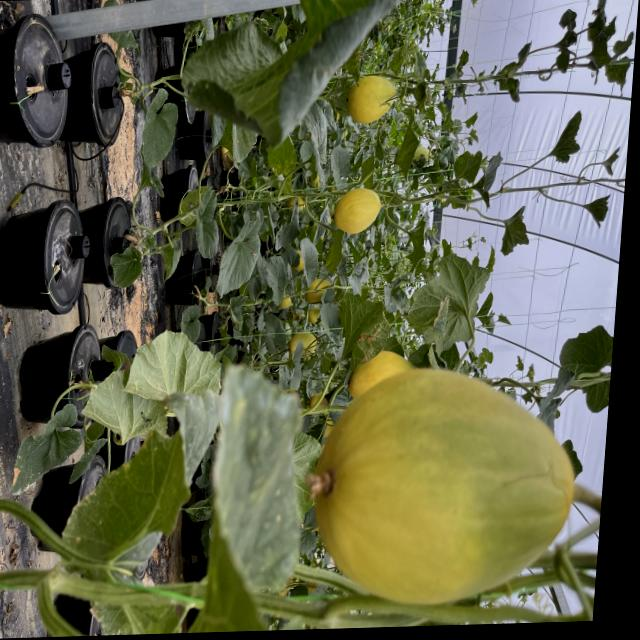CMV: (494, 208, 534, 263)
alternaria leaf blight: (330, 277, 395, 370)
downy mildew: (49, 430, 214, 637), (73, 319, 226, 447), (262, 135, 300, 194), (390, 110, 421, 179)
healthy: (404, 249, 495, 365), (10, 403, 82, 496), (216, 214, 263, 297), (261, 252, 290, 305), (296, 235, 321, 286)
powdery mildew: (140, 87, 180, 168), (108, 244, 146, 287)
